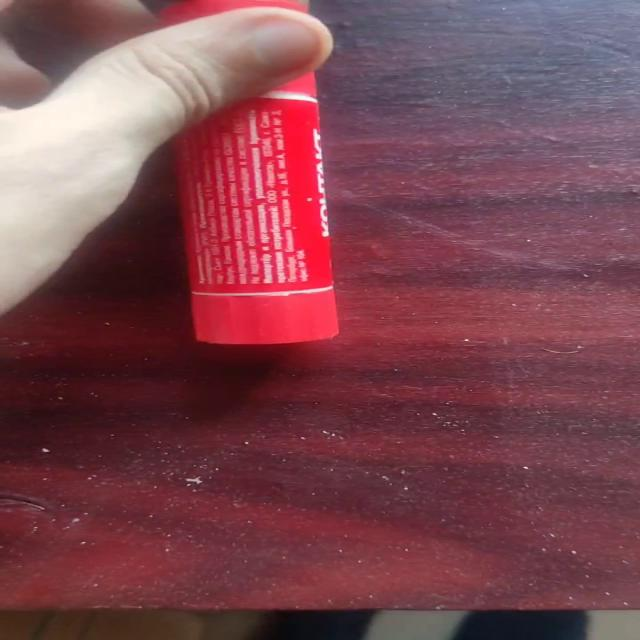glue: (151, 1, 341, 346)
